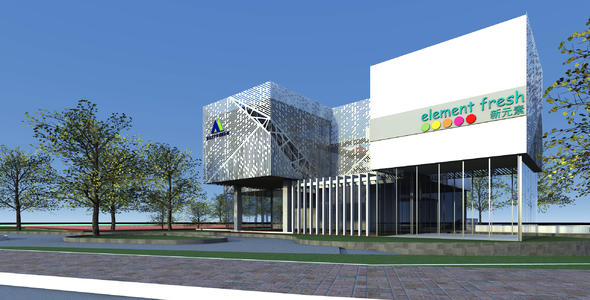buildings: (197, 85, 351, 209)
sky_cloud: (13, 8, 350, 67)
